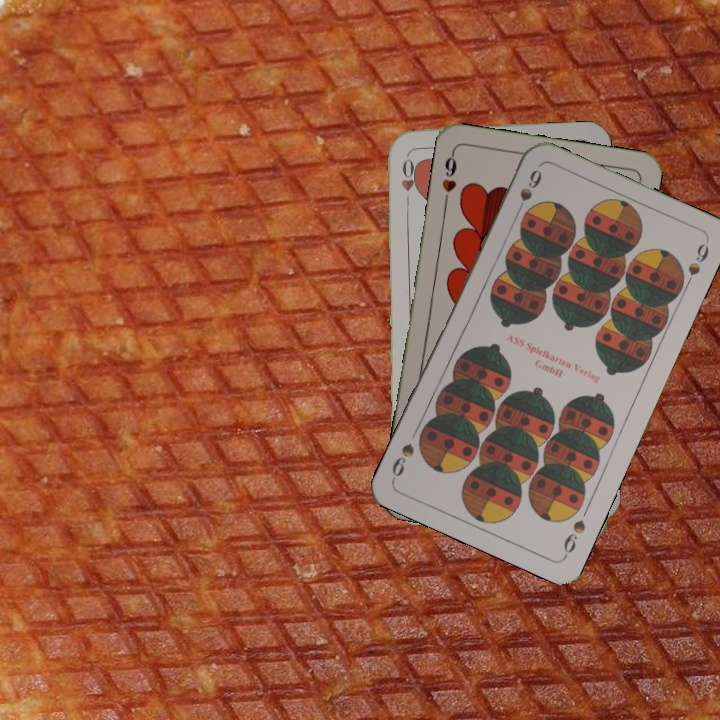H9: (437, 147, 460, 207)
HO: (397, 151, 418, 210)
S9: (511, 165, 545, 220), (559, 516, 588, 560)
